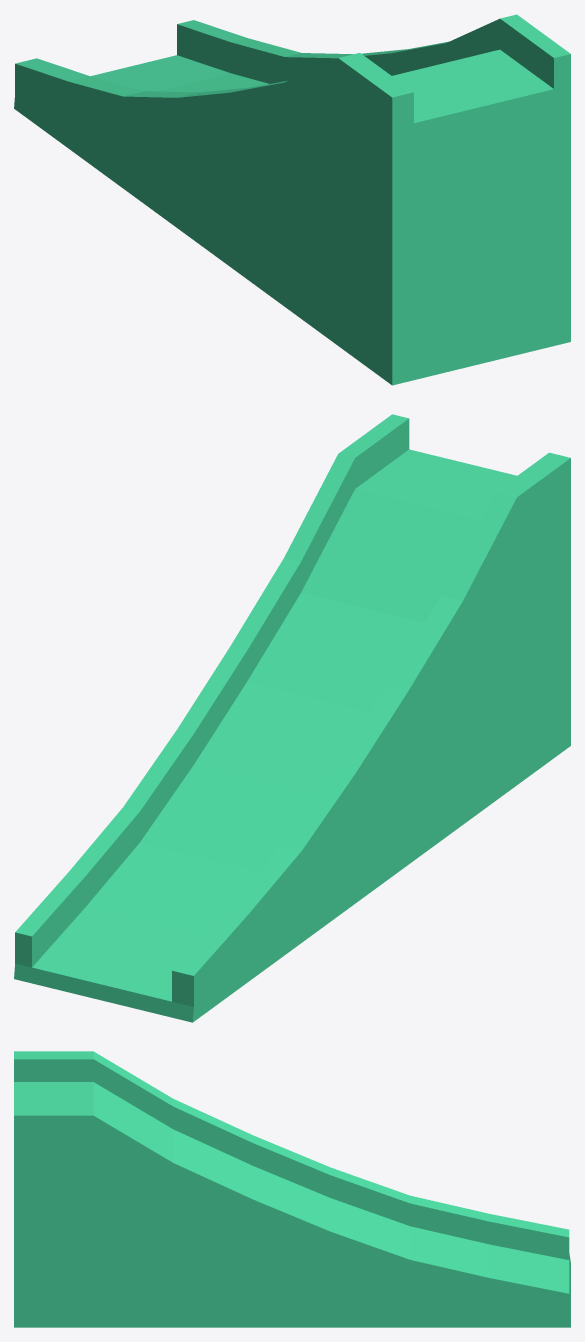
Rendered from Bowling_Bal_glijbaan.fbx.
The picture shows the model from 3 angles, top to bottom: view 1: azimuth 30°, elevation 25°; view 2: azimuth 150°, elevation 25°; view 3: azimuth 270°, elevation 25°; orthographic projection. The views are drawn at different scales.
Visible parts, largest first — view 1: Cube; view 2: Cube; view 3: Cube.
Part boxes in pixels (<box>): Cube: <box>14,14,570,385</box>; Cube: <box>14,414,570,1022</box>; Cube: <box>14,1051,570,1327</box>.
Bounding box in the file's own units: 279 × 430 × 1024.
